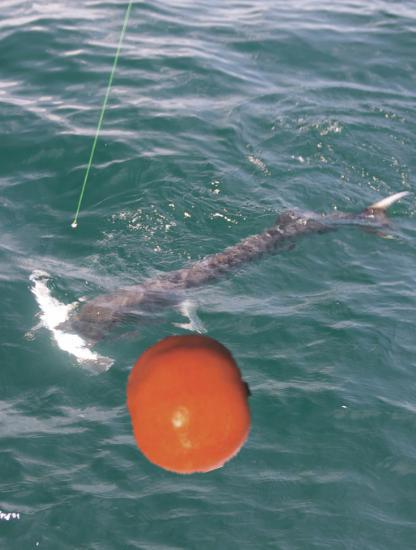Clementine: (119, 333, 261, 475)
